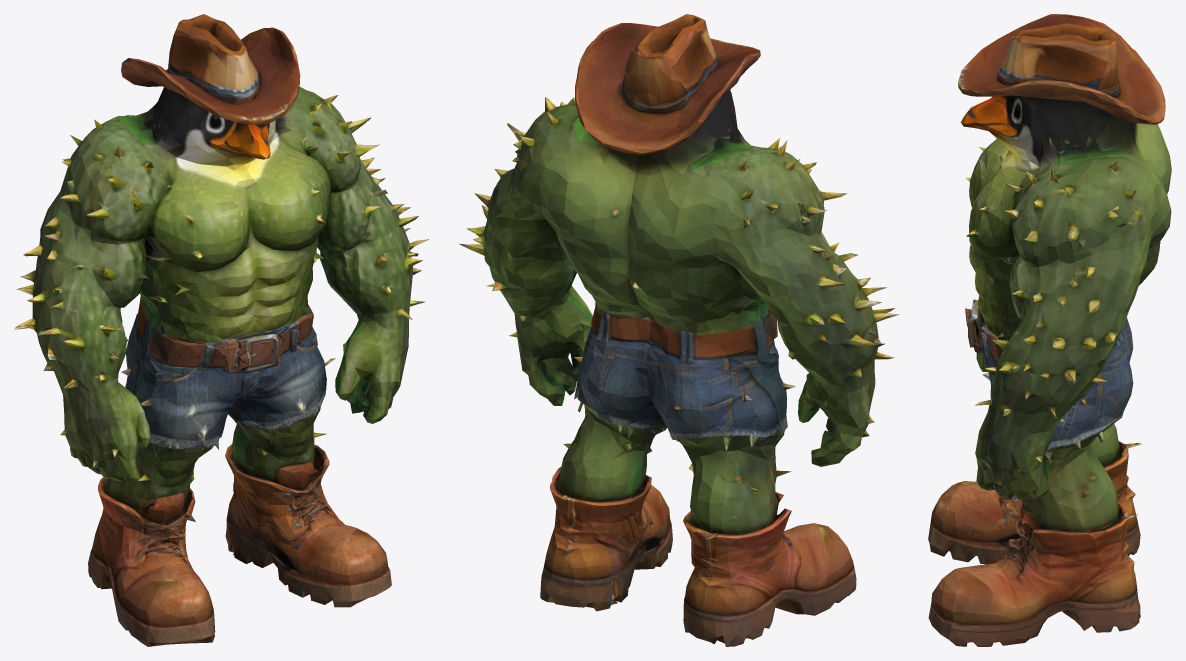
The model's file is leru_leru_le.glb.
3 renders of one model, left to right at view 1: azimuth 30°, elevation 25°; view 2: azimuth 150°, elevation 25°; view 3: azimuth 270°, elevation 25°, orthographic. The views are drawn at different scales.
Visible parts, largest first — view 1: temp; view 2: temp; view 3: temp.
Part boxes in pixels (left/top/right/bottom): temp: left=14, top=14, right=428, bottom=646; temp: left=459, top=14, right=899, bottom=646; temp: left=928, top=14, right=1171, bottom=646.
Size of the model in its own units: 1.52 by 2 by 0.7914.
Materials: 1 (1 with a texture image).
